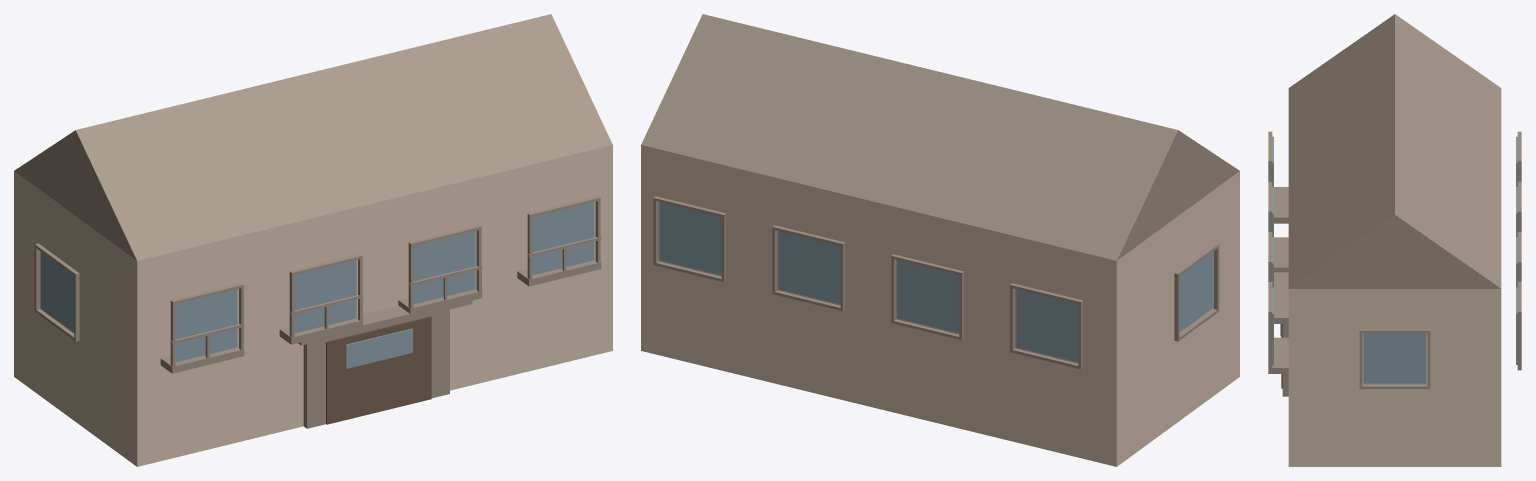
File: residential_2x1_a.glb
3 views of the same model, side by side, from view 1: azimuth 30°, elevation 25°; view 2: azimuth 150°, elevation 25°; view 3: azimuth 270°, elevation 25° (orthographic). The views are drawn at different scales.
Parts seen in each view (by area): view 1: residential_2x1_a_0; view 2: residential_2x1_a_0; view 3: residential_2x1_a_0.
Boxes of the visible parts, left/top/right/bottom form: residential_2x1_a_0: left=14, top=14, right=612, bottom=466; residential_2x1_a_0: left=641, top=14, right=1239, bottom=466; residential_2x1_a_0: left=1268, top=14, right=1521, bottom=466.
Bounding box in the file's own units: 15.74 × 8.5 × 7.74.
